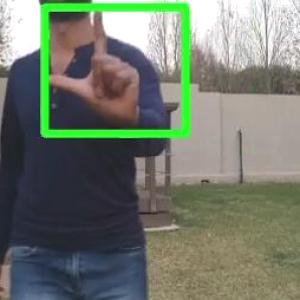land_hand: (43, 1, 144, 124)
